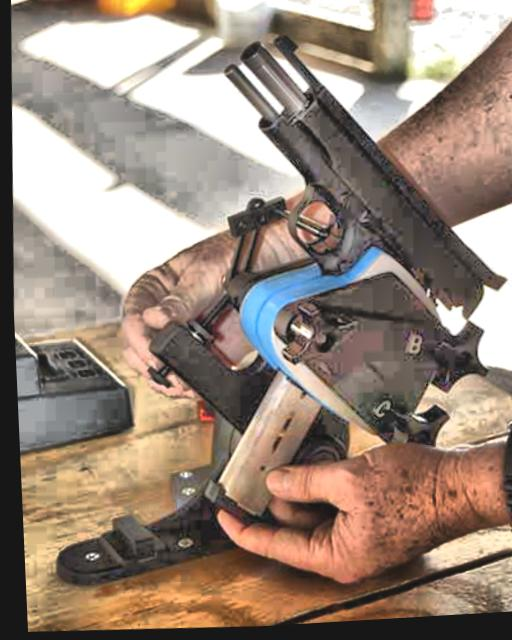pistol: (188, 25, 512, 535)
